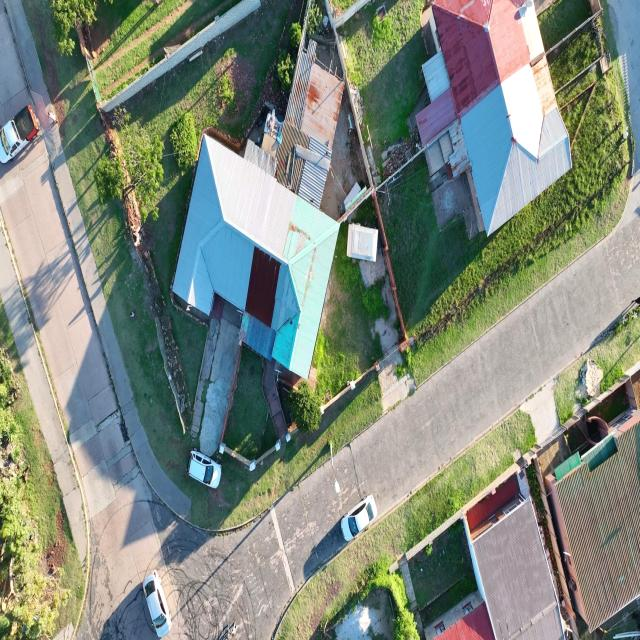Car: (335, 484, 384, 547), (142, 567, 173, 637), (1, 113, 34, 164), (188, 448, 222, 489)
